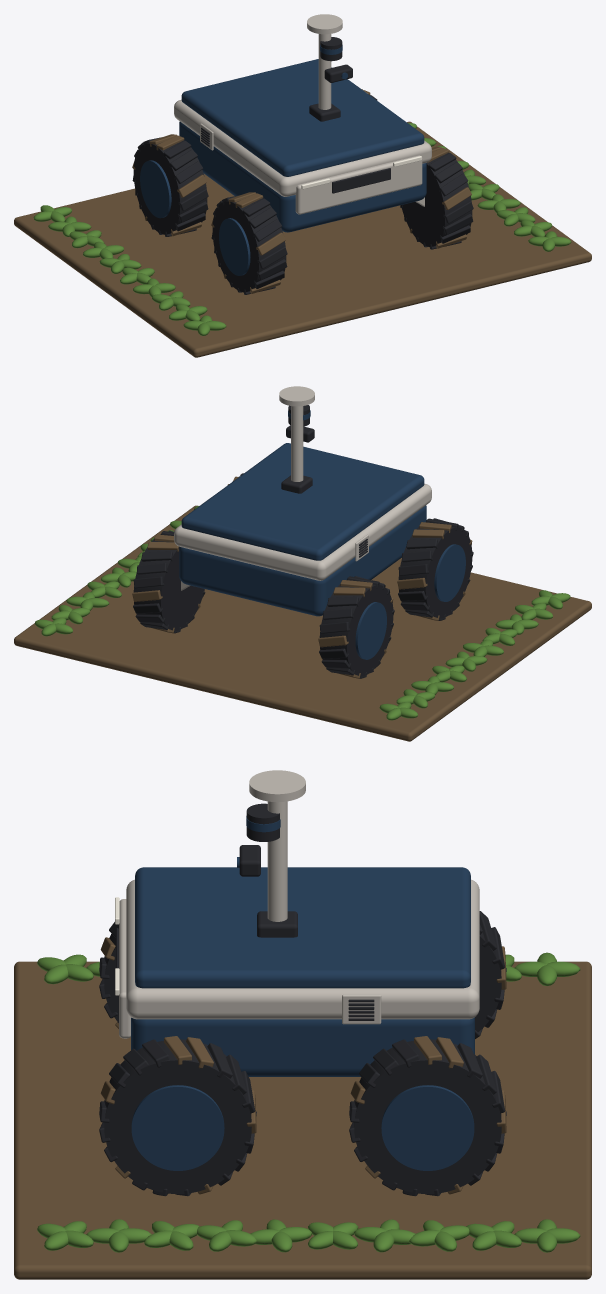
The model's file is robots-39.glb.
3 views of the same model, one above another, from view 1: azimuth 30°, elevation 25°; view 2: azimuth 150°, elevation 25°; view 3: azimuth 270°, elevation 25° (orthographic). The views are drawn at different scales.
Visible parts, largest first — view 1: soil, covers, wheels, crop, hull, fascia, mast, antenna, scanner; view 2: soil, covers, wheels, hull, crop, mast, antenna; view 3: soil, covers, wheels, crop, hull, mast, antenna, fascia, vents, scanner, camera.
Part boxes in pixels (x1,y1,x2,y2): soil: [14, 121, 591, 357]; covers: [174, 59, 431, 196]; wheels: [132, 89, 473, 294]; crop: [33, 123, 571, 335]; hull: [179, 121, 426, 232]; fascia: [295, 155, 422, 214]; mast: [309, 34, 340, 121]; antenna: [307, 14, 342, 34]; scanner: [320, 37, 342, 61]; soil: [14, 505, 591, 741]; covers: [174, 443, 431, 580]; wheels: [132, 473, 473, 678]; hull: [179, 505, 426, 616]; crop: [35, 506, 570, 720]; mast: [281, 406, 312, 493]; antenna: [279, 386, 314, 406]; soil: [14, 961, 591, 1279]; covers: [126, 867, 479, 1019]; wheels: [99, 911, 506, 1196]; crop: [37, 952, 580, 1252]; hull: [131, 1017, 474, 1076]; mast: [257, 801, 297, 937]; antenna: [249, 770, 305, 802]; fascia: [116, 899, 131, 1038]; vents: [342, 994, 381, 1024]; scanner: [246, 803, 280, 841]; camera: [237, 845, 260, 876].
Bounding box in the file's own units: 3.73 × 2.01 × 2.96.
